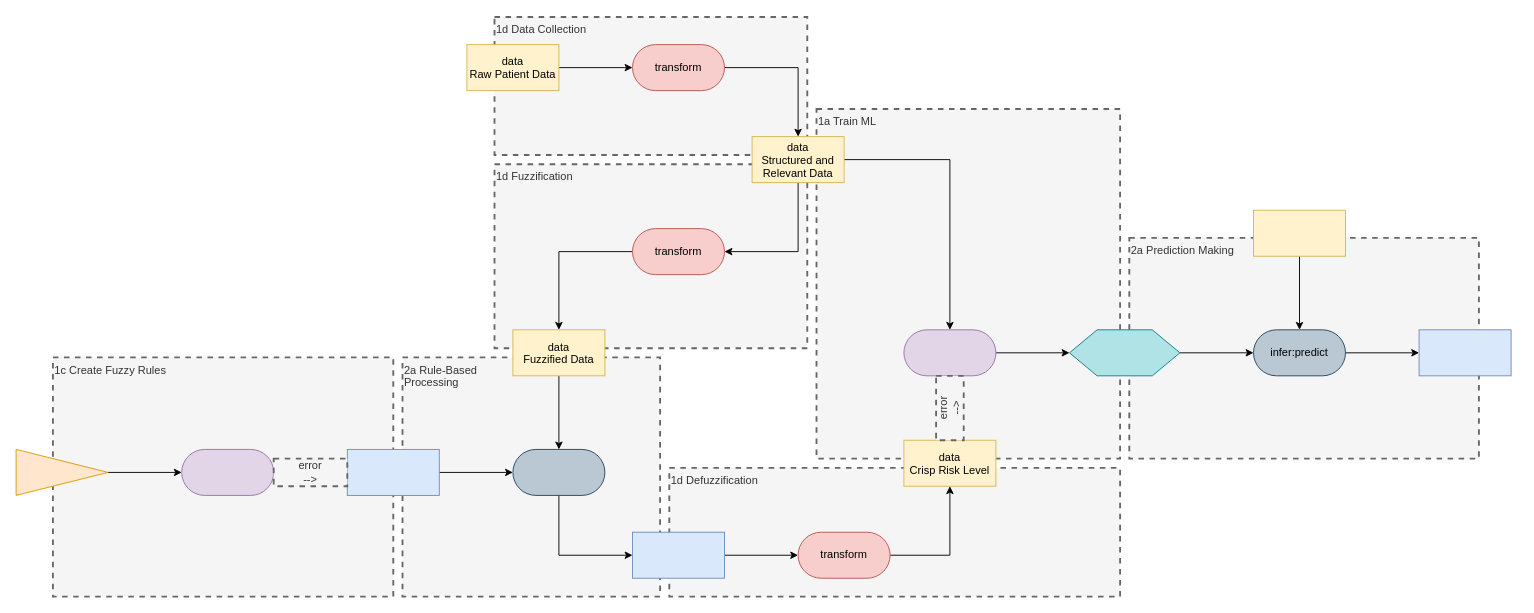
Some shapes in this 1534 by 613 pixel diagram are drawn without their labels. Here are the shapes that lost their labels. From the top down, the centre of each, then its label:
At (1299,232): "data Patient Data".
At (949,352): "generate:train".
At (1124,352): "model:hybrid ML Model".
At (1464,352): "symbol Risk and Likelihood COVID-19".
At (61,471): "actor Experts".
At (227,471): "generate:engineer".
At (392,471): "symbol Fuzzy Rules".
At (558,471): "infer:deduce".
At (678,554): "symbol Fuzzy Risk Level".
